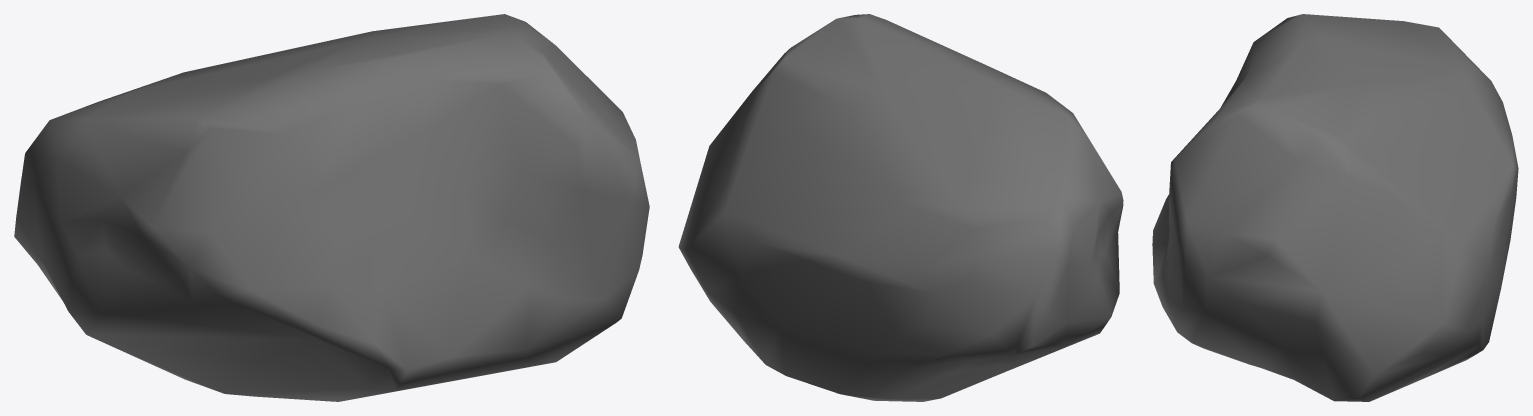
Rendered from Rock_3a.gltf.
3 views of the same model, side by side, from view 1: azimuth 30°, elevation 25°; view 2: azimuth 150°, elevation 25°; view 3: azimuth 270°, elevation 25° (orthographic). The views are drawn at different scales.
Visible parts, largest first — view 1: Rock_3a; view 2: Rock_3a; view 3: Rock_3a.
Part boxes in pixels (x1,y1,x2,y2): Rock_3a: (14, 14, 649, 401); Rock_3a: (678, 14, 1123, 401); Rock_3a: (1152, 14, 1518, 401).
Size of the model in its own units: 41.76 by 27.05 by 31.07.
Materials: 1 (1 with a texture image).
